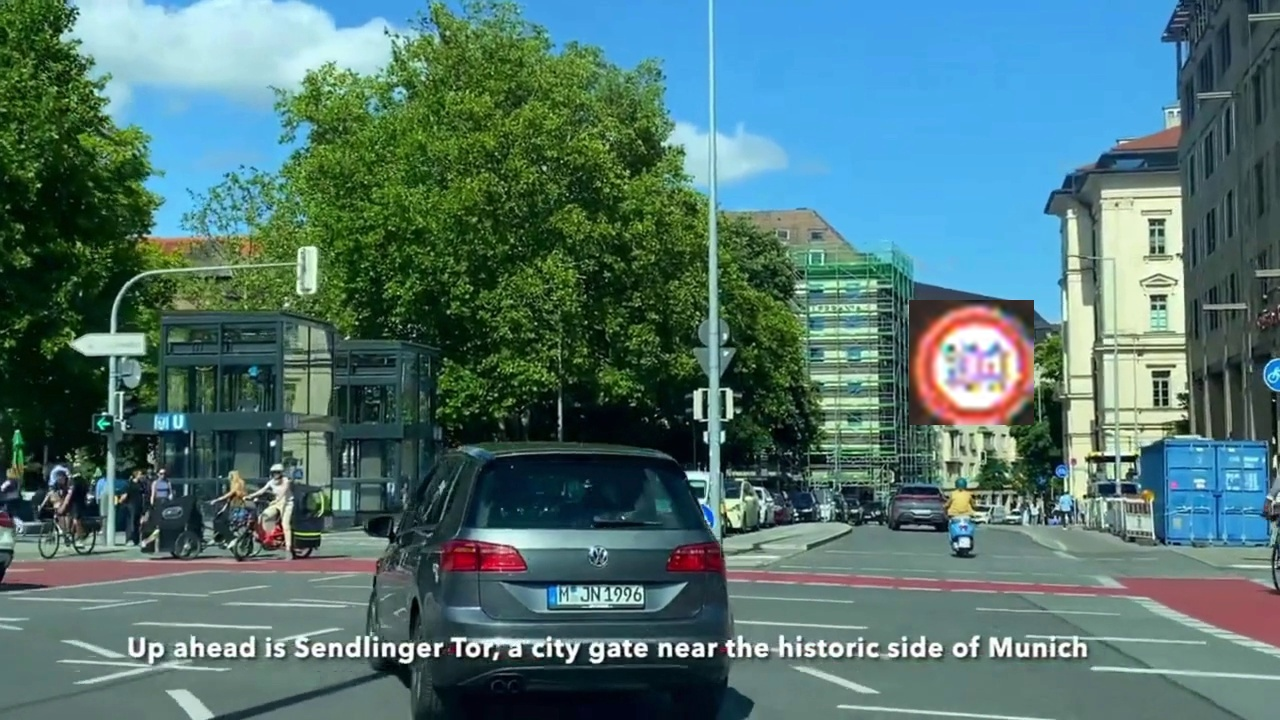Speed 100: (909, 300, 1034, 425)
